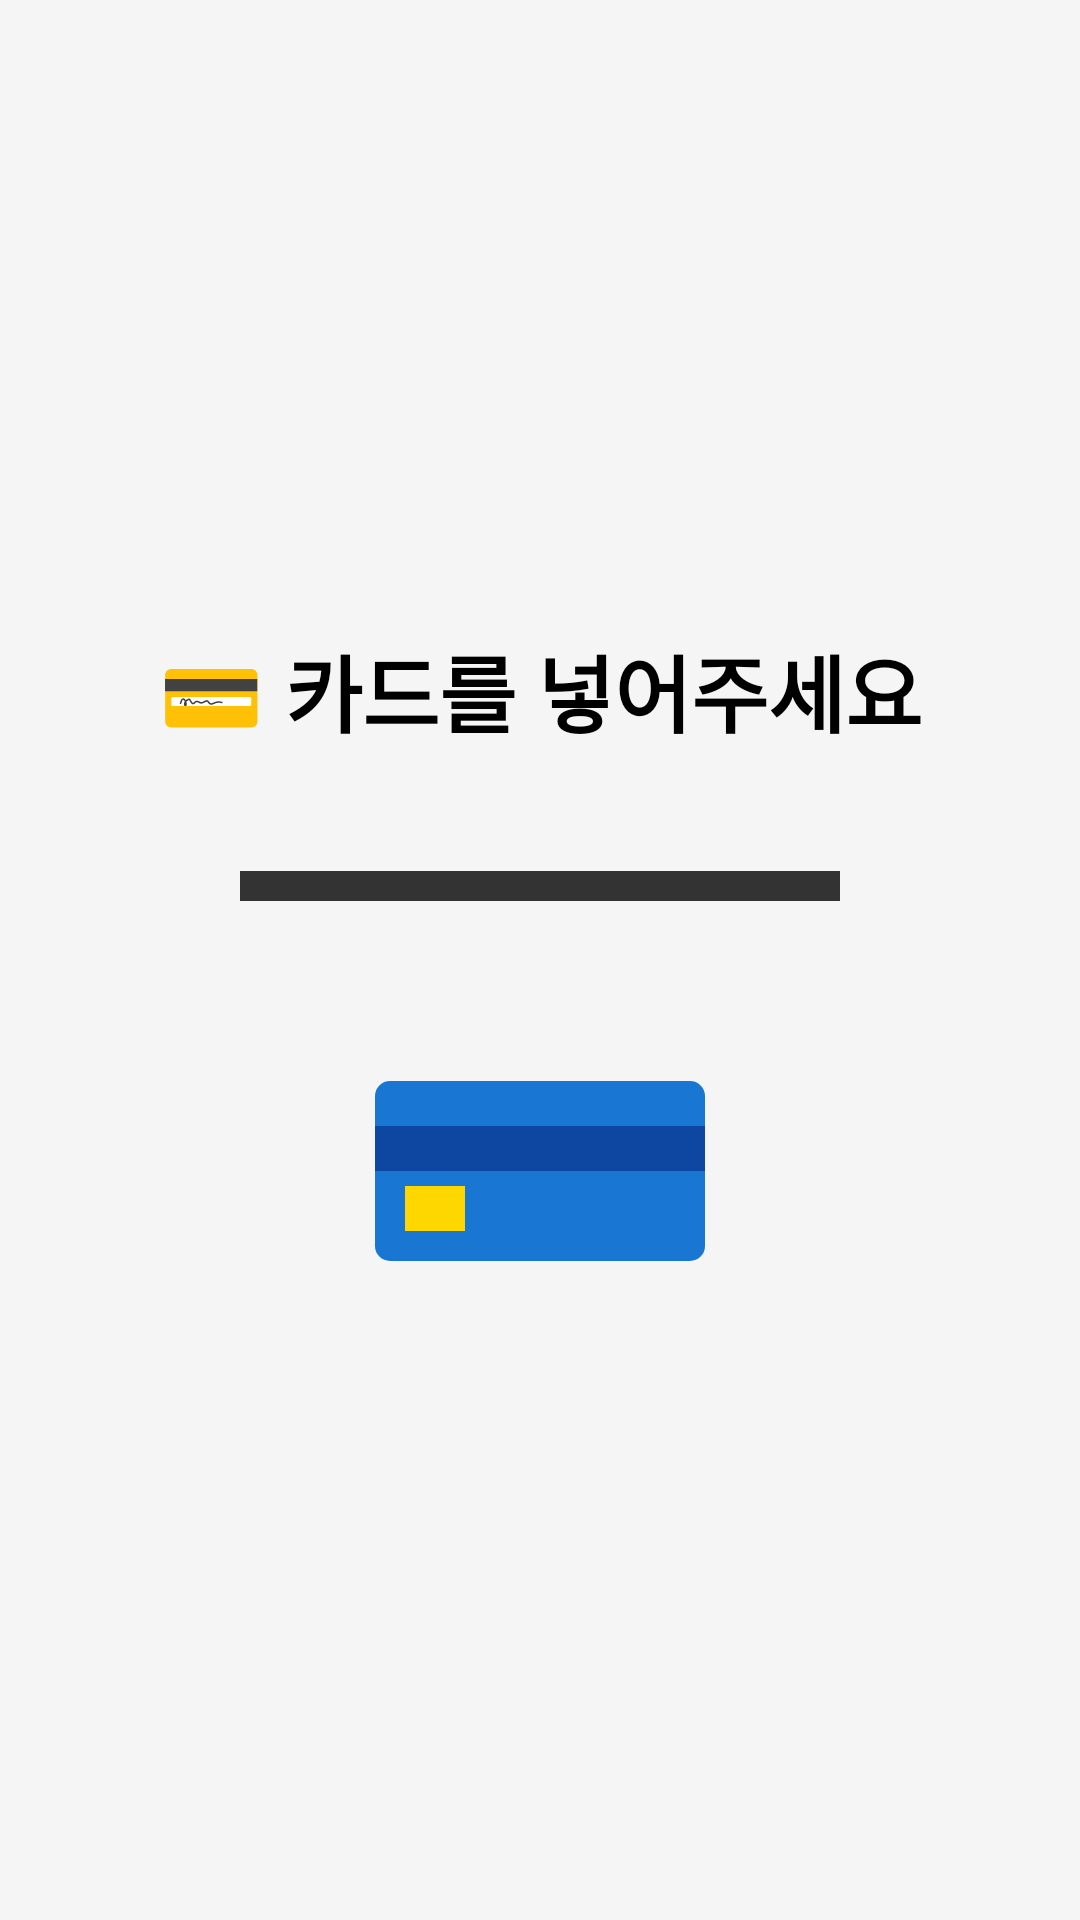

Point at icon controls on the screen. Image size 1080×1920, points as (x=x, y=y).
card: (x=540, y=1171)
